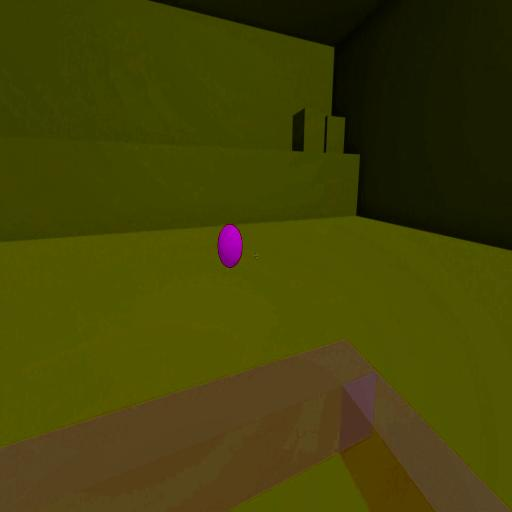Crosshair: (253, 251, 260, 261)
Target: (218, 224, 242, 271)
